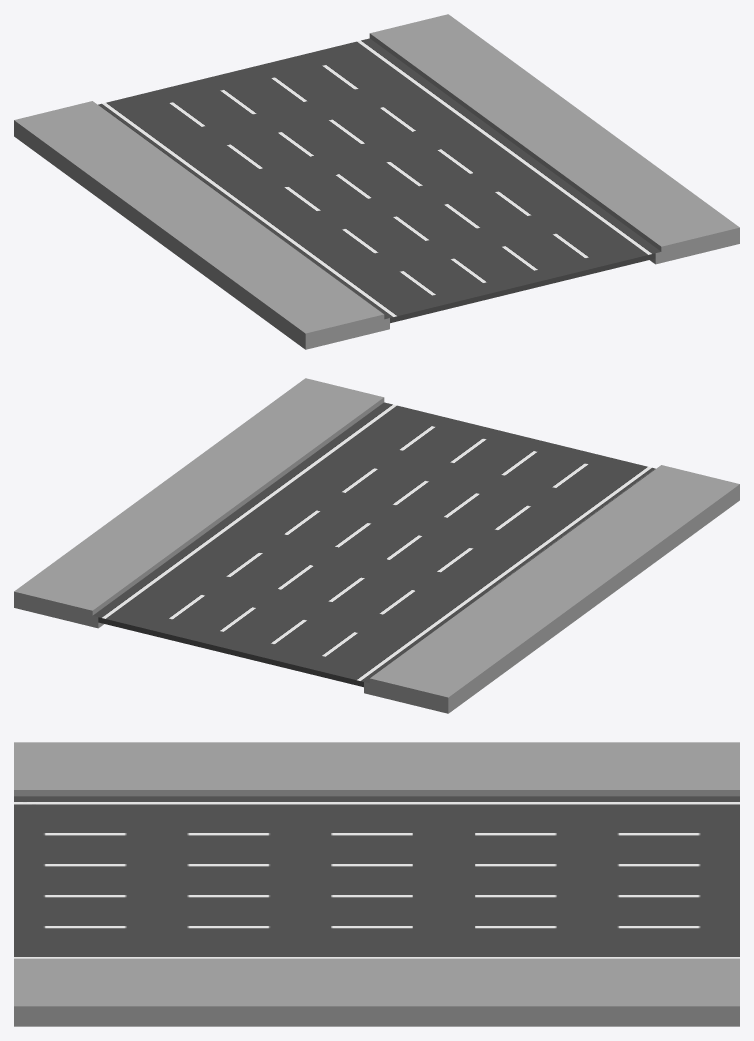
File: tile_road_5_1.fbx
The picture shows the model from 3 angles, top to bottom: view 1: azimuth 30°, elevation 25°; view 2: azimuth 150°, elevation 25°; view 3: azimuth 270°, elevation 25°; orthographic projection. The views are drawn at different scales.
Parts seen in each view (by area): view 1: road_5_1, sidewalk_L, sidewalk_R; view 2: road_5_1, sidewalk_L, sidewalk_R; view 3: road_5_1, sidewalk_R, sidewalk_L.
Part boxes in pixels (left/top/right/bottom): road_5_1: left=98, top=40, right=655, bottom=323; sidewalk_L: left=14, top=101, right=389, bottom=349; sidewalk_R: left=364, top=14, right=739, bottom=264; road_5_1: left=98, top=404, right=655, bottom=687; sidewalk_L: left=364, top=465, right=739, bottom=713; sidewalk_R: left=14, top=378, right=389, bottom=628; road_5_1: left=14, top=800, right=739, bottom=958; sidewalk_R: left=14, top=958, right=739, bottom=1026; sidewalk_L: left=14, top=742, right=739, bottom=799.
Bounding box in the file's own units: 2972 × 107 × 3455.
3 materials, 3 textured.
